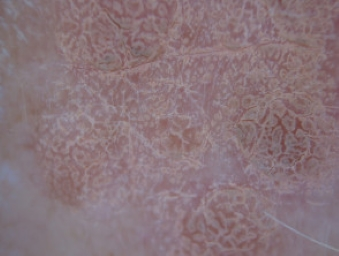seborrheic keratosis: (30, 3, 323, 248)
